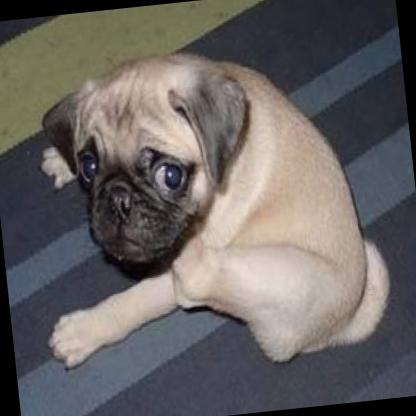pug: (17, 32, 396, 386)
